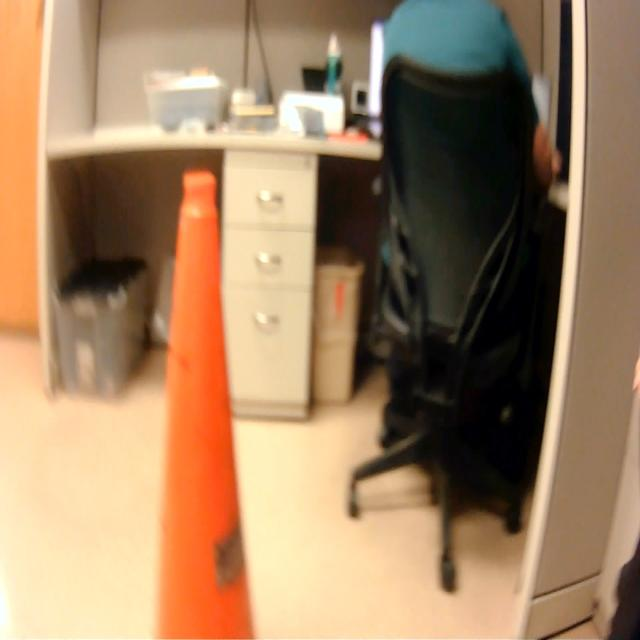traffic cone: (147, 164, 262, 640)
